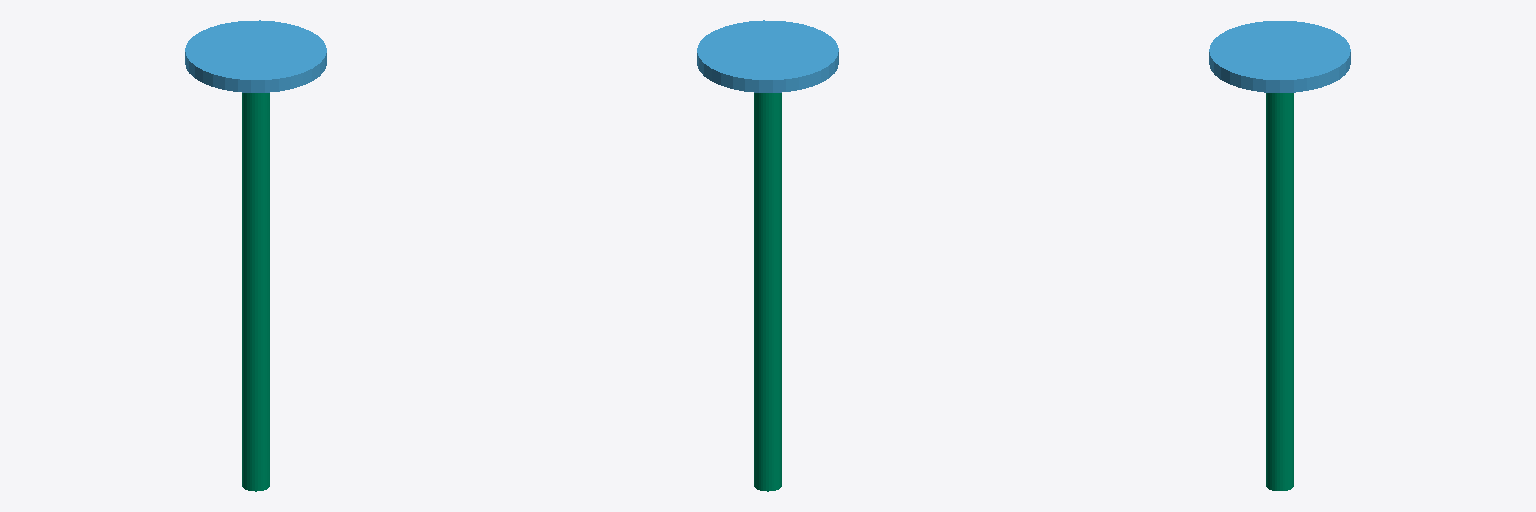
The robot description file, URDF, robot "nail":
<?xml version="1.0"?>
<robot name="nail">
  <link name="base"/>
  <link name="head">
    <visual>
      <geometry>
        <cylinder length="0.003" radius="0.015"/>
      </geometry>
      <origin xyz="0 0 0"/>
    </visual>
    <collision>
      <geometry>
        <cylinder length="0.003" radius="0.015"/>
      </geometry>
      <origin xyz="0 0 0"/>
    </collision>
  </link>

  <link name="tip">
    <visual>
      <geometry>
        <cylinder length="0.1" radius="0.003"/>
      </geometry>
      <origin xyz="0 0 -0.05"/>
    </visual>
  </link>

  <joint name="base_to_tip" type="prismatic">
    <parent link="base"/>
    <child link="tip"/>
    <axis xyz="0 0 1"/>
    <dynamics damping="1" friction="1000"/>
    <limit effort="30" velocity="0.1" lower="-0.095" upper="0.0" />
  </joint>

  <joint name="tip_to_head" type="fixed">
    <parent link="tip"/>
    <child link="head"/>
  </joint>

</robot>

--- What the picture shows (computed from the rendered views, not written in the file) ---
Views: 3 orthographic renders of the robot side by side, from view 1: azimuth 30°, elevation 25°; view 2: azimuth 150°, elevation 25°; view 3: azimuth 270°, elevation 25°.
Robot: nail — 3 links, 2 joints (1 prismatic, 1 fixed); root link base; default pose: all joints at 0.
Visible links, largest first — view 1: tip, head; view 2: tip, head; view 3: tip, head.
Boxes of the visible links, <box> form: tip: <box>242,93,269,491</box>; head: <box>185,20,326,92</box>; tip: <box>754,93,781,491</box>; head: <box>697,20,838,92</box>; tip: <box>1266,93,1293,490</box>; head: <box>1209,21,1350,92</box>.
Size in the robot's own frame: 0.03 by 0.03 by 0.1015 metres.
Geometry: primitives only (box / cylinder / sphere), no mesh files.